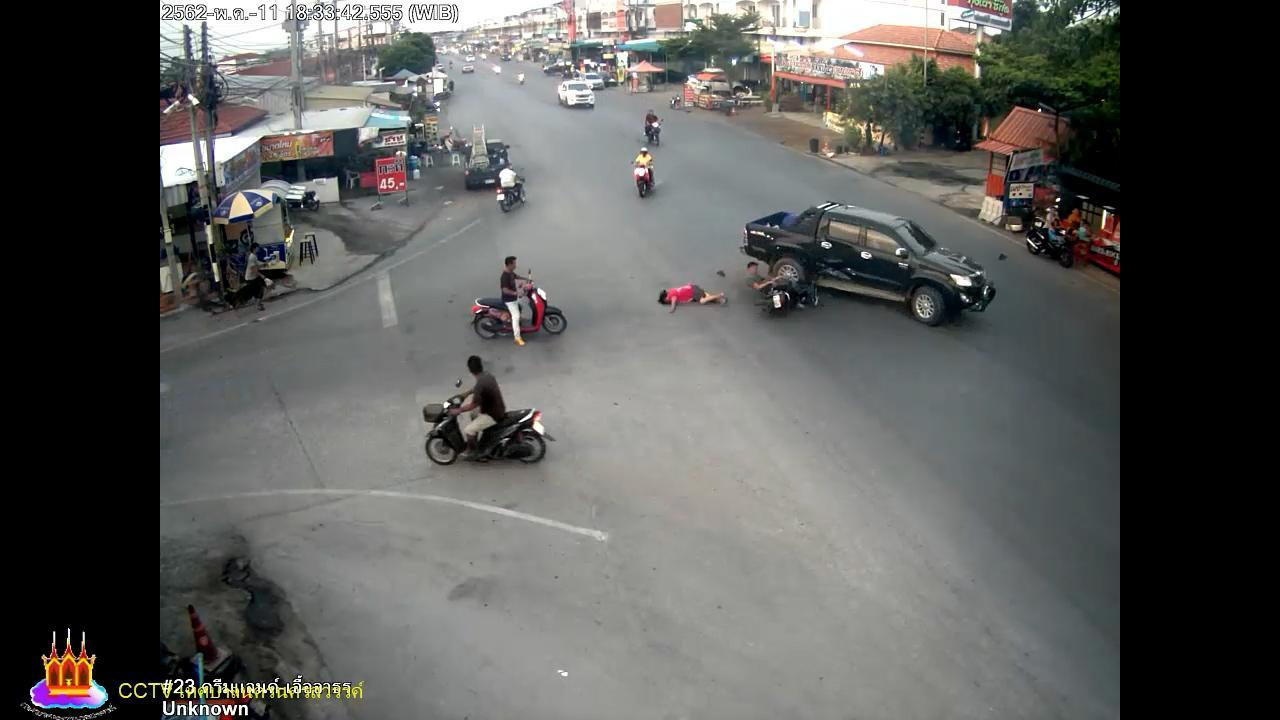accident: (656, 282, 726, 310)
